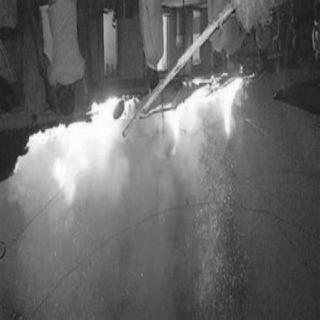Smoke: (29, 192, 125, 304), (177, 163, 245, 303)
